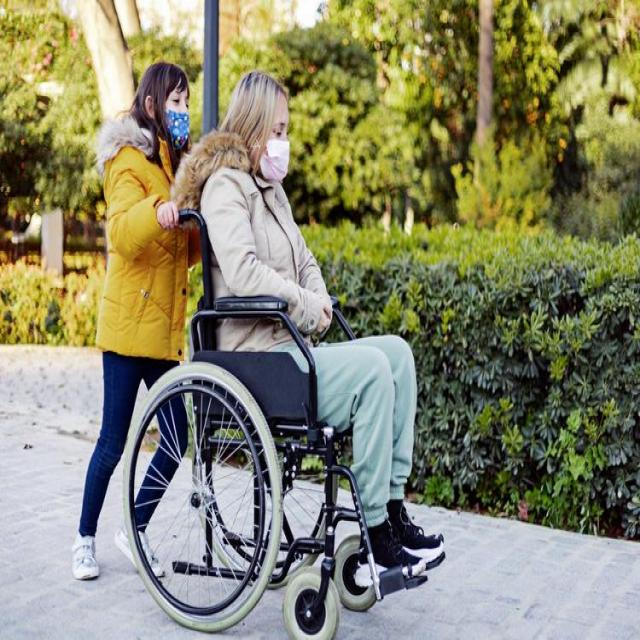wheelchairs: (114, 203, 433, 639)
